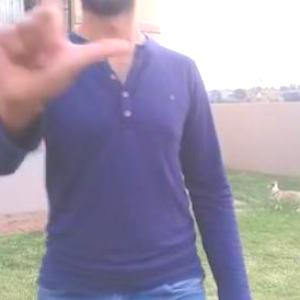land_hand: (0, 0, 140, 110)
